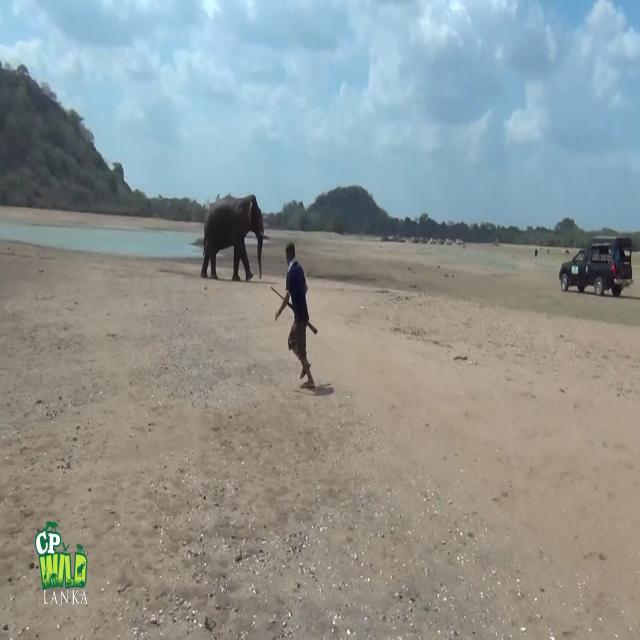Elephant: (200, 193, 266, 282)
person: (275, 242, 315, 388)
